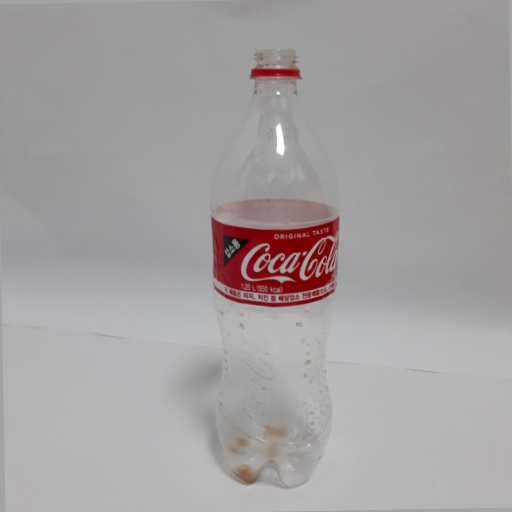Plastic_0: (204, 46, 345, 492)
